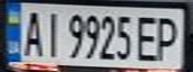2: (100, 11, 118, 61)
5: (115, 11, 136, 61)
9: (63, 10, 84, 60), (81, 10, 100, 61)
A: (18, 7, 45, 58)
E: (133, 12, 163, 62)
I: (39, 7, 63, 58)
P: (151, 12, 184, 62)
